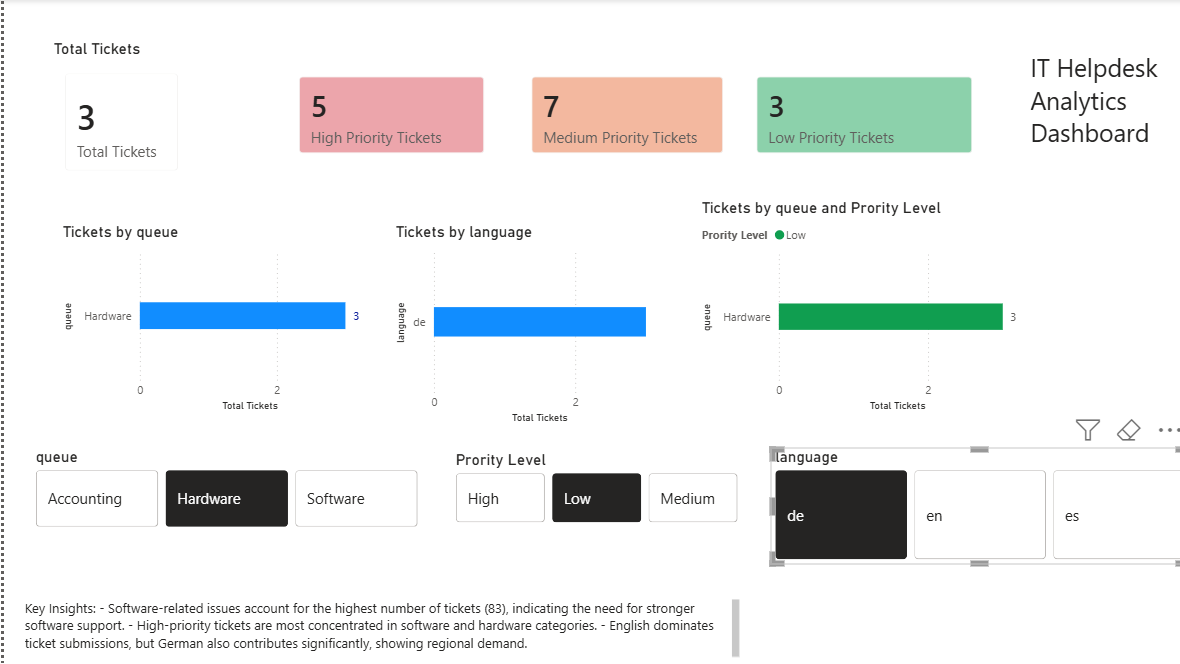

The page's visual inventory and layout, read from the dashboard file:
{"tool":"powerbi","page":{"name":"Page 1","canvas":[1280,720],"ordinal":0},"visuals":[{"type":"clusteredBarChart","title":"Tickets by queue","fields":{"Category":["ticket_helpdesk_labeled_multi_languages_english_spain_french_german.queue"],"Y":["ticket_helpdesk_labeled_multi_languages_english_spain_french_german.Total Tickets"]},"box":[58.2,240.9,334.9,207.8],"z":0},{"type":"cardVisual","title":"Total Tickets","fields":{"Data":["ticket_helpdesk_labeled_multi_languages_english_spain_french_german.Total Tickets"]},"box":[49.3,43.9,156.7,158.5],"z":1000},{"type":"cardVisual","fields":{"Data":["ticket_helpdesk_labeled_multi_languages_english_spain_french_german.Medium Priority Tickets"]},"box":[552.5,67.2,241.8,117.3],"z":2000},{"type":"cardVisual","fields":{"Data":["ticket_helpdesk_labeled_multi_languages_english_spain_french_german.Low Priority Tickets"]},"box":[794.3,67.2,267.8,117.3],"z":3000},{"type":"cardVisual","fields":{"Data":["ticket_helpdesk_labeled_multi_languages_english_spain_french_german.High Priority Tickets"]},"box":[300.9,67.2,234.6,117.3],"z":4000},{"type":"clusteredBarChart","title":"Tickets by language","fields":{"Y":["ticket_helpdesk_labeled_multi_languages_english_spain_french_german.Total Tickets"],"Category":["ticket_helpdesk_labeled_multi_languages_english_spain_french_german.language"]},"box":[418.2,241.8,283.9,221.2],"z":5000},{"type":"barChart","title":"Tickets by queue and Prority Level","fields":{"Category":["ticket_helpdesk_labeled_multi_languages_english_spain_french_german.queue"],"Series":["ticket_helpdesk_labeled_multi_languages_english_spain_french_german.Prority Level"],"Y":["ticket_helpdesk_labeled_multi_languages_english_spain_french_german.Total Tickets"]},"box":[748.7,214.9,353.7,233.7],"z":6000},{"type":"advancedSlicerVisual","fields":{"Values":["ticket_helpdesk_labeled_multi_languages_english_spain_french_german.Prority Level"]},"box":[482.7,488.1,315.2,82.4],"z":7000},{"type":"advancedSlicerVisual","fields":{"Values":["ticket_helpdesk_labeled_multi_languages_english_spain_french_german.queue"]},"box":[28.7,483.6,422.7,90.4],"z":8000},{"type":"advancedSlicerVisual","fields":{"Values":["ticket_helpdesk_labeled_multi_languages_english_spain_french_german.language"]},"box":[827.5,483.6,452.2,126.3],"z":9000},{"type":"textbox","box":[1102,50,178,152],"z":9001},{"type":"textbox","box":[17,642.1,780.9,77.9],"z":9002}]}

Visuals, with their boxes in screenshot pixels (x1, y1, x2, y2), scaled from the page's 1280x720 canvas onto the 1180x664 screenshot:
"Tickets by queue" clusteredBarChart: [x1=54, y1=222, x2=362, y2=414]
"Total Tickets" cardVisual: [x1=45, y1=40, x2=190, y2=187]
cardVisual - ticket_helpdesk_labeled_multi_languages_english_spain_french_german.Medium Priority Tickets: [x1=509, y1=62, x2=732, y2=170]
cardVisual - ticket_helpdesk_labeled_multi_languages_english_spain_french_german.Low Priority Tickets: [x1=732, y1=62, x2=979, y2=170]
cardVisual - ticket_helpdesk_labeled_multi_languages_english_spain_french_german.High Priority Tickets: [x1=277, y1=62, x2=494, y2=170]
"Tickets by language" clusteredBarChart: [x1=386, y1=223, x2=647, y2=427]
"Tickets by queue and Prority Level" barChart: [x1=690, y1=198, x2=1016, y2=414]
advancedSlicerVisual - ticket_helpdesk_labeled_multi_languages_english_spain_french_german.Prority Level: [x1=445, y1=450, x2=736, y2=526]
advancedSlicerVisual - ticket_helpdesk_labeled_multi_languages_english_spain_french_german.queue: [x1=26, y1=446, x2=416, y2=529]
advancedSlicerVisual - ticket_helpdesk_labeled_multi_languages_english_spain_french_german.language: [x1=763, y1=446, x2=1179, y2=562]
textbox: [x1=1016, y1=46, x2=1179, y2=186]
textbox: [x1=16, y1=592, x2=736, y2=663]
